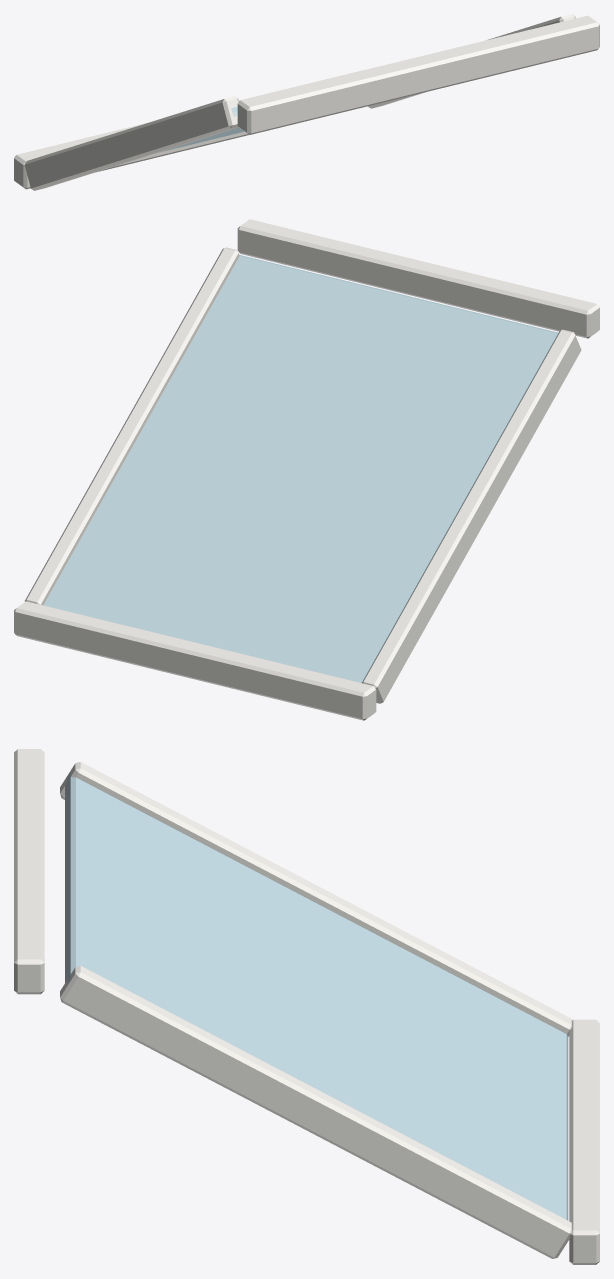
File: SM_Veranda_Roof.fbx
3 views of the same model, one above another, from view 1: azimuth 30°, elevation 25°; view 2: azimuth 150°, elevation 25°; view 3: azimuth 270°, elevation 25° (orthographic). The views are drawn at different scales.
Visible parts, largest first — view 1: Veranda_Roof; view 2: Veranda_Roof; view 3: Veranda_Roof.
Part boxes in pixels (<box>): Veranda_Roof: <box>14,14,599,190</box>; Veranda_Roof: <box>14,219,599,720</box>; Veranda_Roof: <box>14,749,599,1264</box>.
Size of the model in its own units: 132 by 88 by 153.
